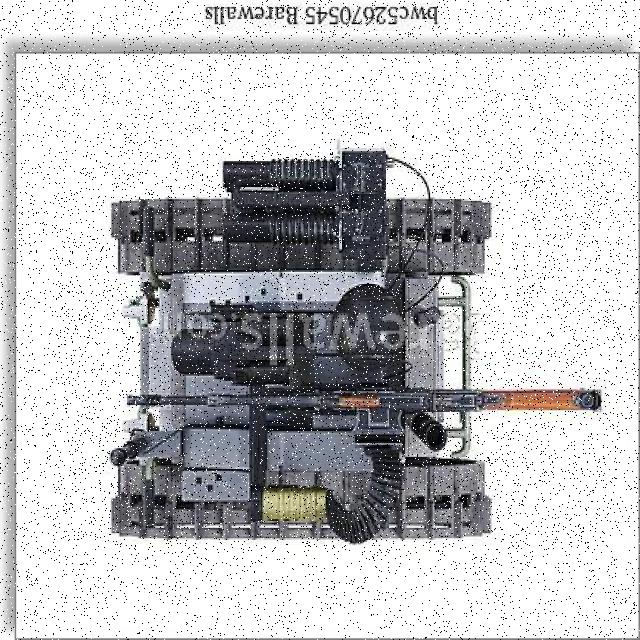MIL_MBT: (53, 150, 621, 549)
